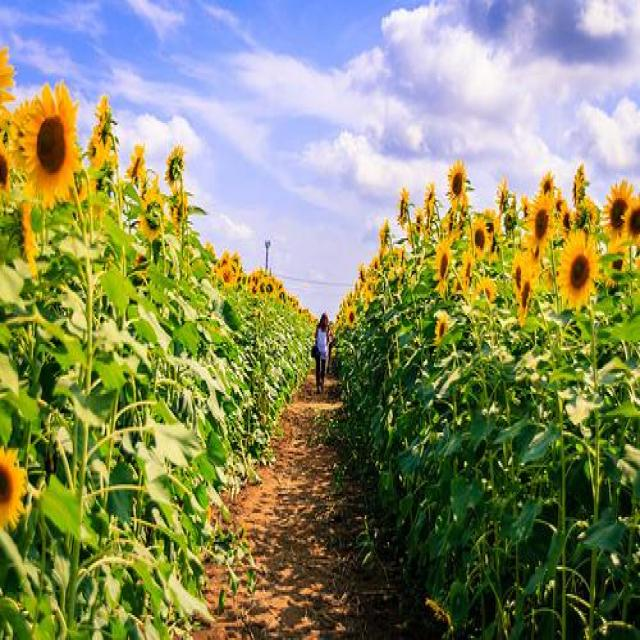sunflower: (13, 82, 79, 204), (557, 228, 599, 306), (0, 445, 28, 539), (524, 194, 557, 258), (600, 178, 634, 239), (20, 198, 40, 274), (0, 44, 17, 125), (446, 158, 468, 211), (431, 232, 451, 289), (468, 216, 491, 262), (604, 242, 628, 286), (141, 194, 165, 238), (94, 97, 115, 144), (622, 199, 640, 249), (517, 273, 531, 327), (165, 144, 186, 180), (393, 187, 411, 228), (514, 250, 530, 293), (126, 145, 146, 178), (572, 162, 588, 202), (472, 278, 495, 304), (557, 200, 575, 233), (0, 135, 9, 192), (434, 314, 449, 344), (496, 180, 510, 210), (538, 171, 556, 194), (90, 136, 102, 168), (424, 181, 435, 215), (221, 263, 234, 287), (518, 194, 530, 217), (345, 306, 357, 326), (357, 264, 370, 282), (372, 257, 379, 270)
